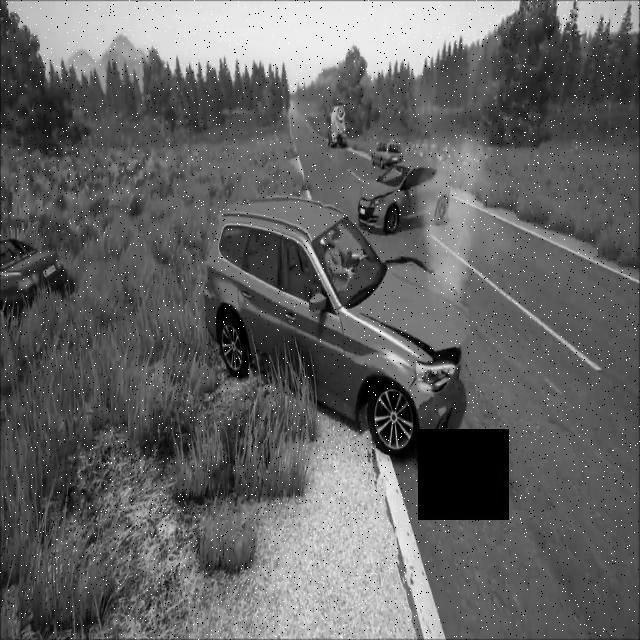accident: (200, 193, 473, 475)
vehicle: (2, 220, 72, 324), (358, 159, 448, 231), (325, 105, 353, 153), (370, 138, 402, 170)
